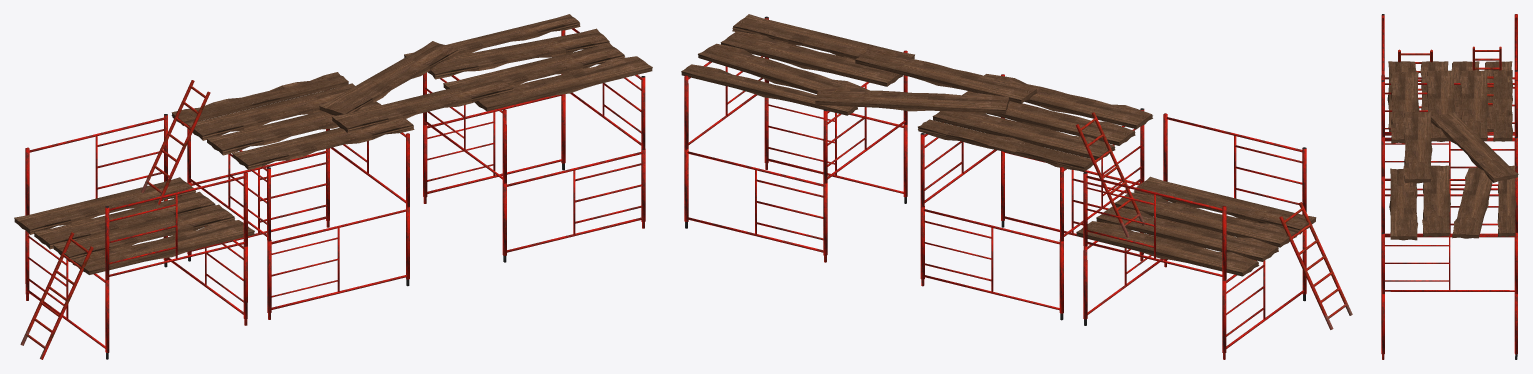
The model's file is scaffold.glb.
3 views of the same model, side by side, from view 1: azimuth 30°, elevation 25°; view 2: azimuth 150°, elevation 25°; view 3: azimuth 270°, elevation 25° (orthographic). The views are drawn at different scales.
Visible parts, largest first — view 1: Wood_Wood_0, Cylinder.004_Andaime_0, Cylinder_Escadas_0; view 2: Wood_Wood_0, Cylinder.004_Andaime_0, Cylinder_Escadas_0; view 3: Wood_Wood_0, Cylinder.004_Andaime_0, Cylinder_Escadas_0.
Boxes of the visible parts, bbox=[...] form: Wood_Wood_0: bbox=[14, 14, 652, 274]; Cylinder.004_Andaime_0: bbox=[25, 28, 645, 359]; Cylinder_Escadas_0: bbox=[20, 80, 210, 359]; Wood_Wood_0: bbox=[681, 14, 1316, 276]; Cylinder.004_Andaime_0: bbox=[684, 16, 1306, 359]; Cylinder_Escadas_0: bbox=[1075, 112, 1352, 329]; Wood_Wood_0: bbox=[1387, 61, 1518, 240]; Cylinder.004_Andaime_0: bbox=[1381, 14, 1517, 359]; Cylinder_Escadas_0: bbox=[1398, 46, 1501, 108].
Bounding box in the file's own units: 13.41 × 4 × 3.15.
3 materials, 3 textured.
